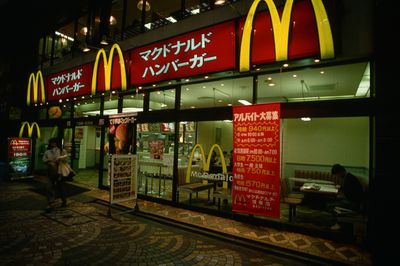mcdonalds: (234, 1, 338, 79), (87, 40, 129, 95), (20, 66, 50, 104)
